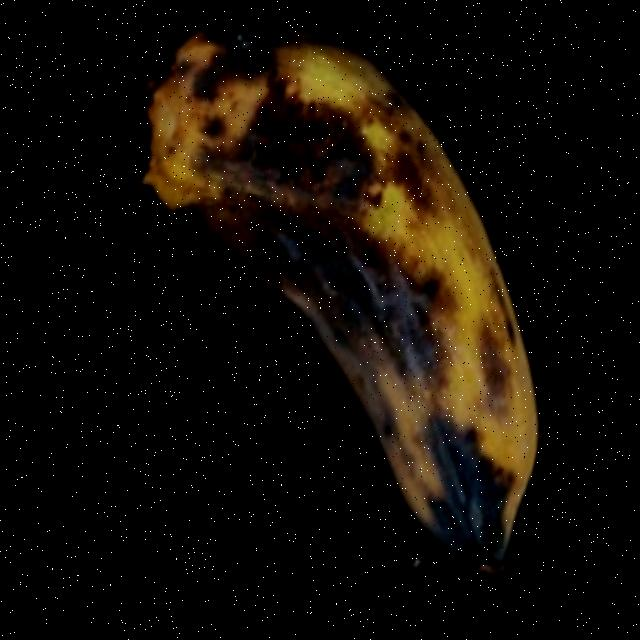Rotten: (36, 0, 640, 624)
